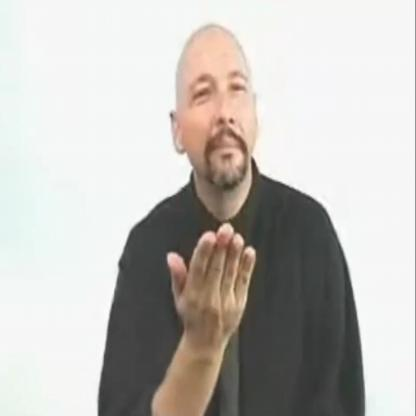ThankYou: (117, 26, 351, 416)
